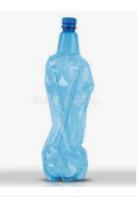plastic_bottle: (36, 12, 96, 181)
